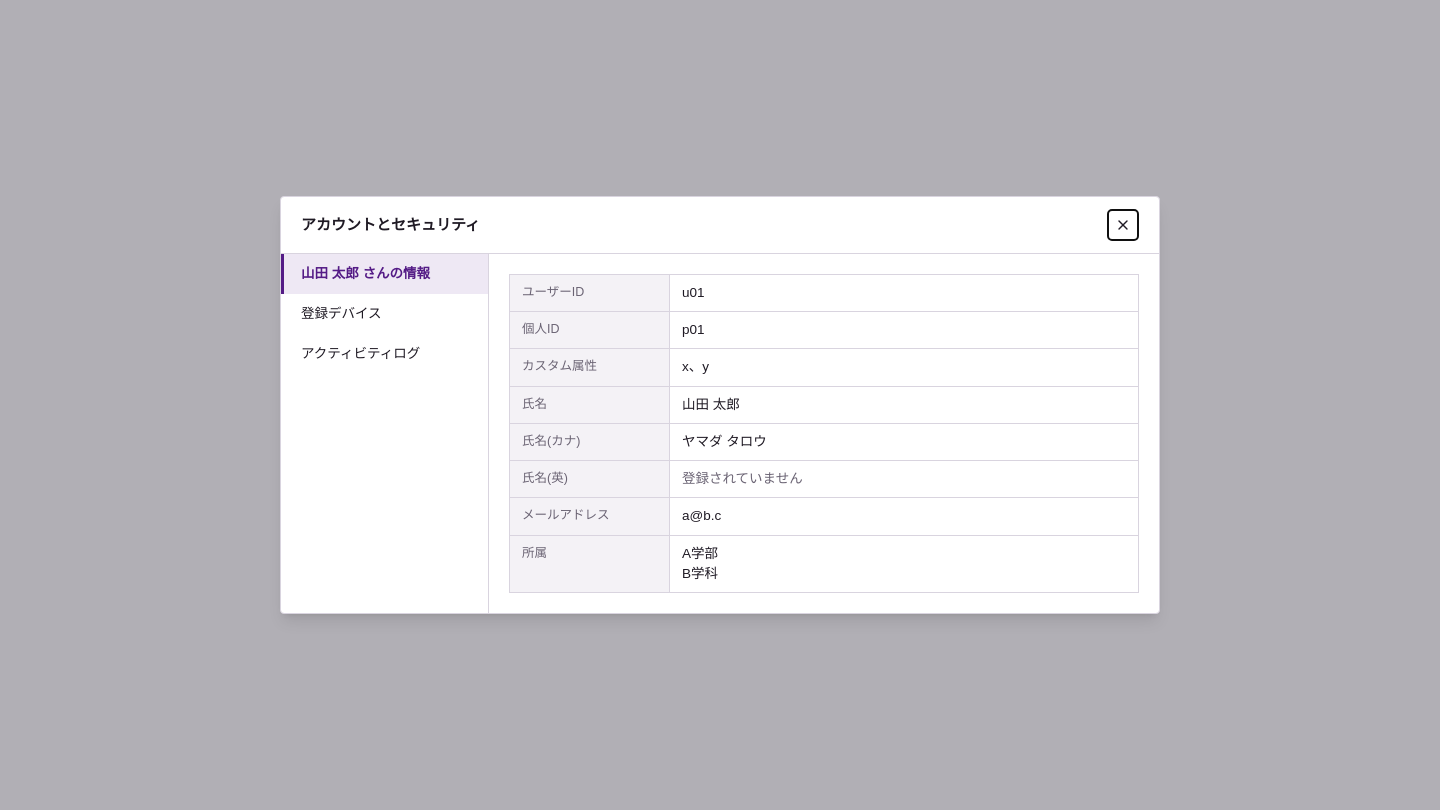
Test: アクティビティログ: ラベル変換と さらに表示
Click the tab "アクティビティログ" at (384, 354), box [281,334,488,374]
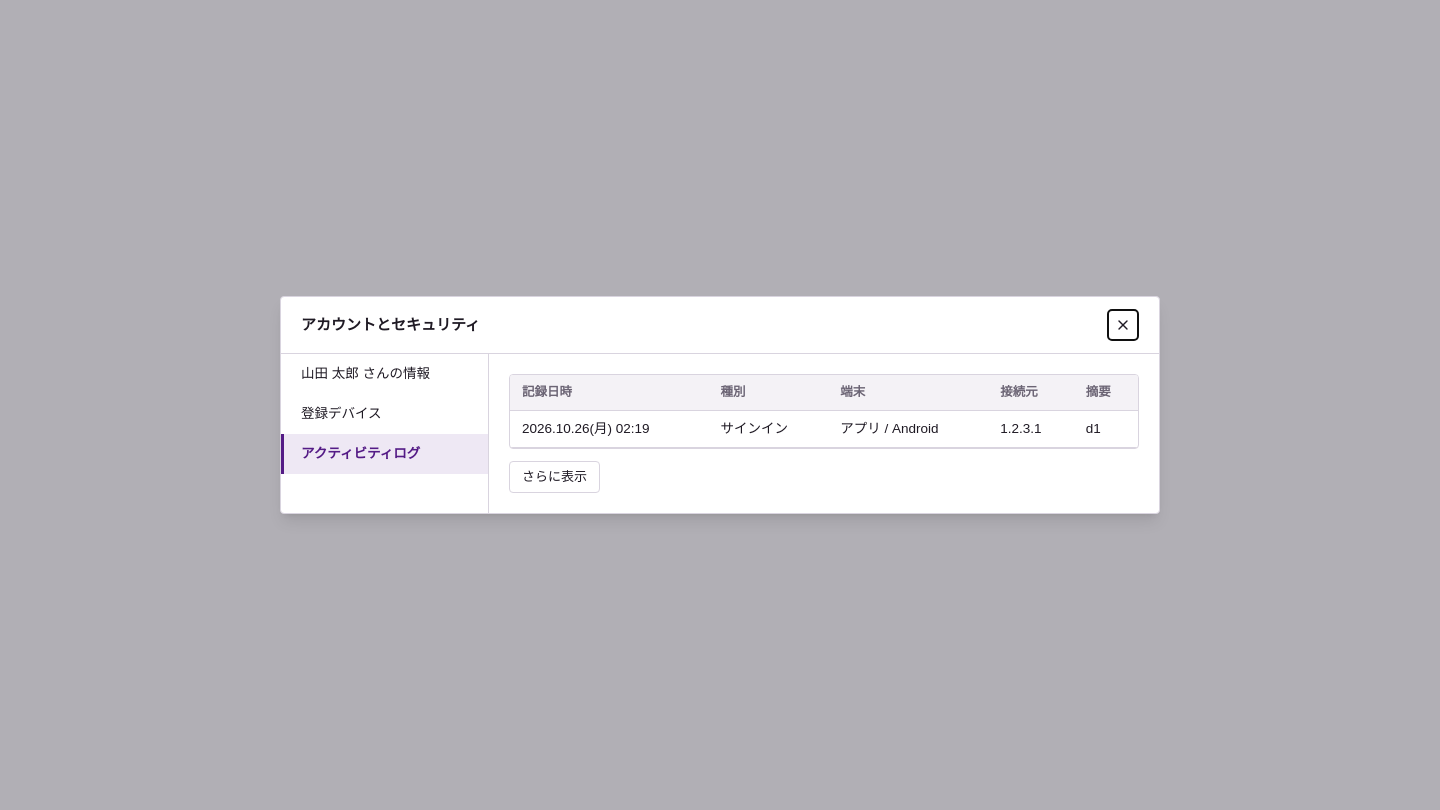
expect the text "サインイン" is shown: met, box [708,410,828,448]
expect the text "アプリ / Android" is shown: met, box [828,410,988,448]
expect the text "1.2.3.1" is shown: met, box [988,410,1074,448]
Click the button "さらに表示" at (554, 477), box [509,461,600,493]
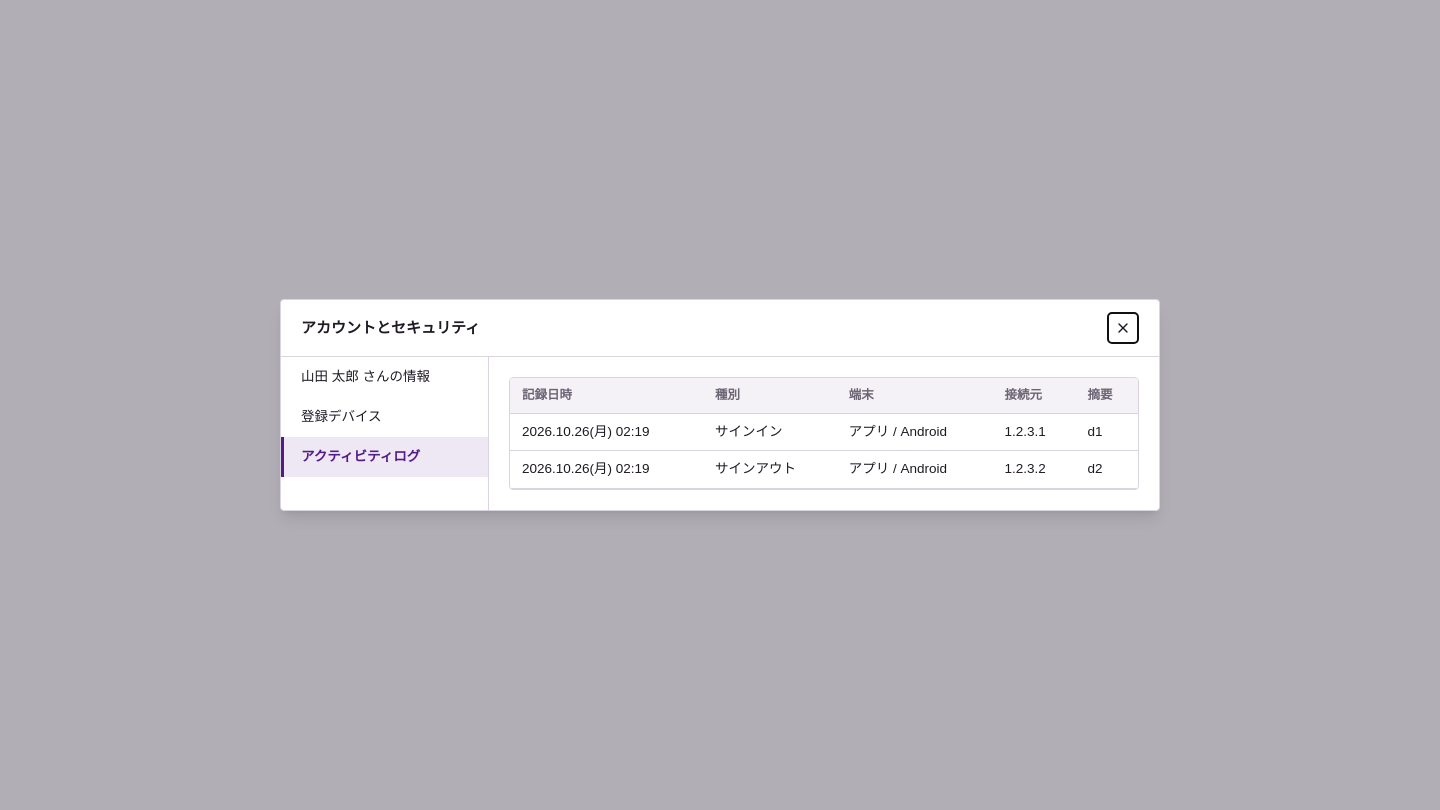
expect the text "サインアウト" is shown: met, box [703,451,837,488]
